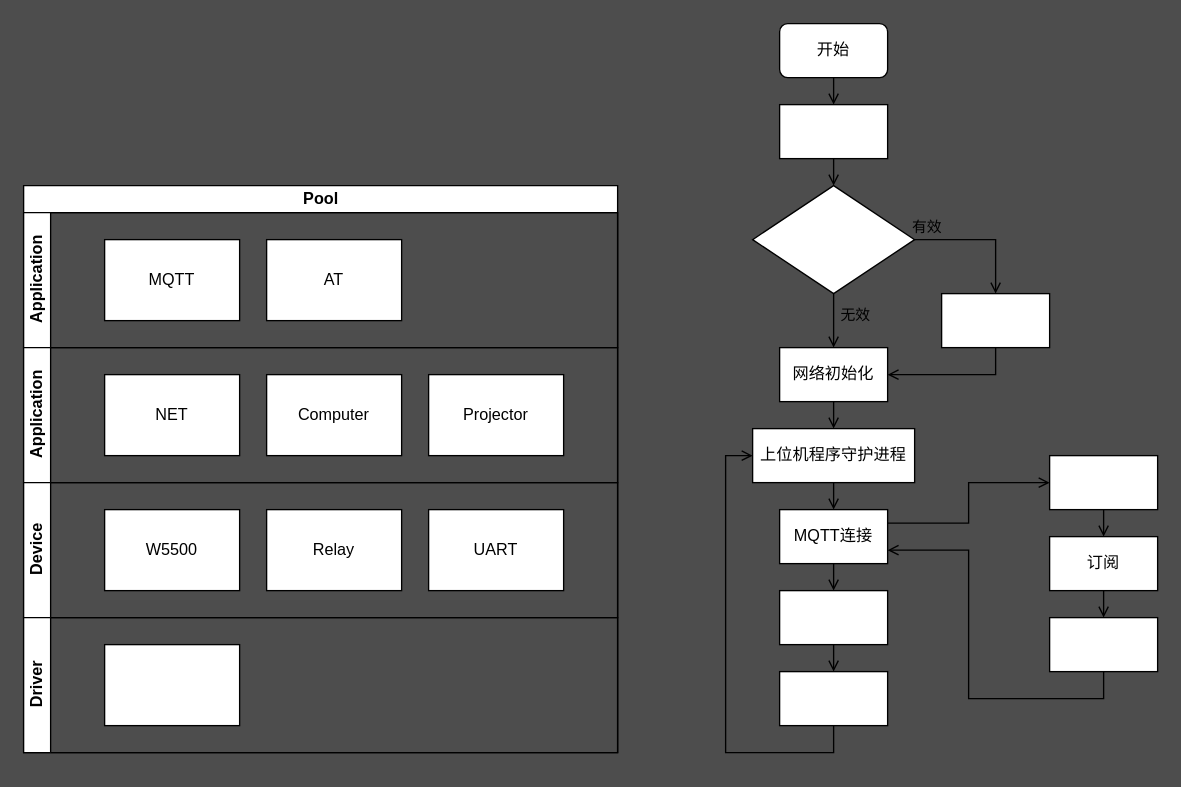
Some shapes in this 1181 by 787 pixel diagram are drawn without their labels. Each missing label, with the centre of its shape:
"AT指令解析" goes at pixel 833 617.
"HAL" goes at pixel 171 684.
"保活" goes at pixel 1103 644.
"加载配置" goes at pixel 995 320.
"外设操作执行" goes at pixel 833 698.
"系统初始化" goes at pixel 833 131.
"读取存储的配置" goes at pixel 833 239.
"连接" goes at pixel 1103 482.
